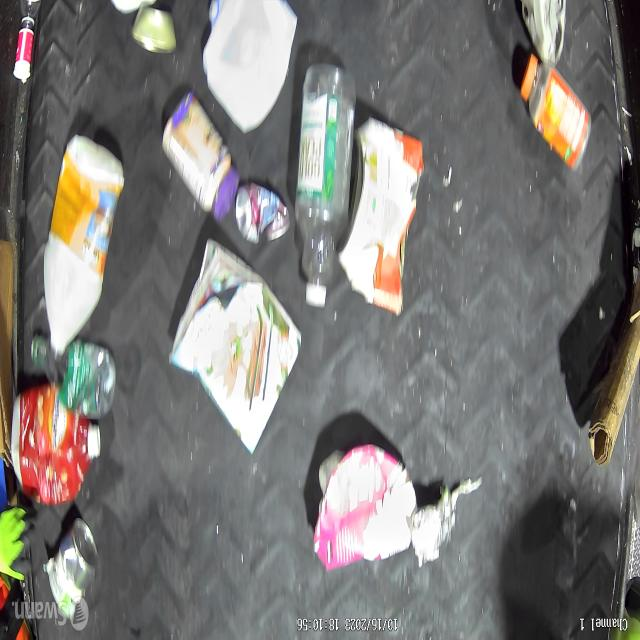can: (337, 116, 425, 315), (47, 517, 97, 618), (236, 181, 289, 249)
milk_jug: (205, 0, 298, 126)
non_white_jug: (43, 135, 125, 360), (312, 443, 418, 569), (13, 395, 101, 506)
plastic_bottle: (297, 64, 349, 308), (30, 333, 119, 417)
